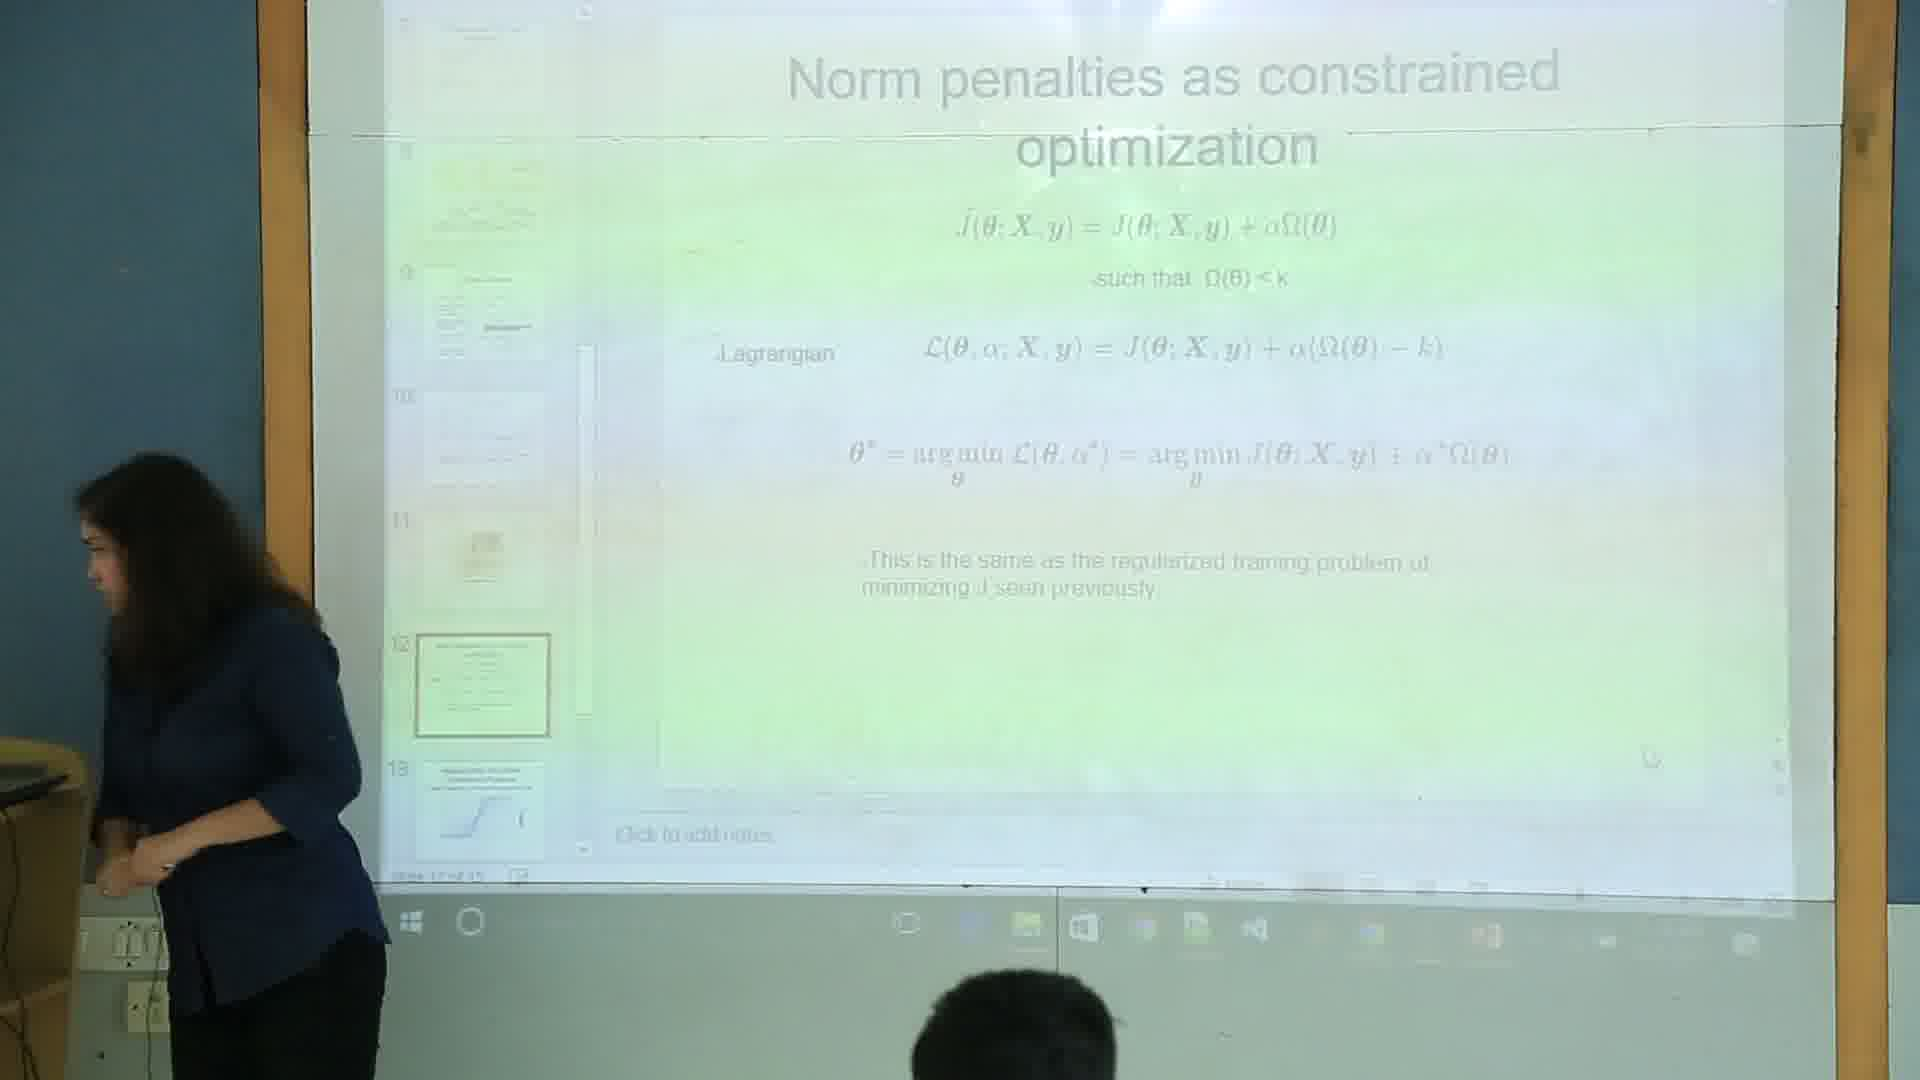eq: (844, 427, 1519, 493), (916, 320, 1457, 381), (947, 202, 1342, 255)
